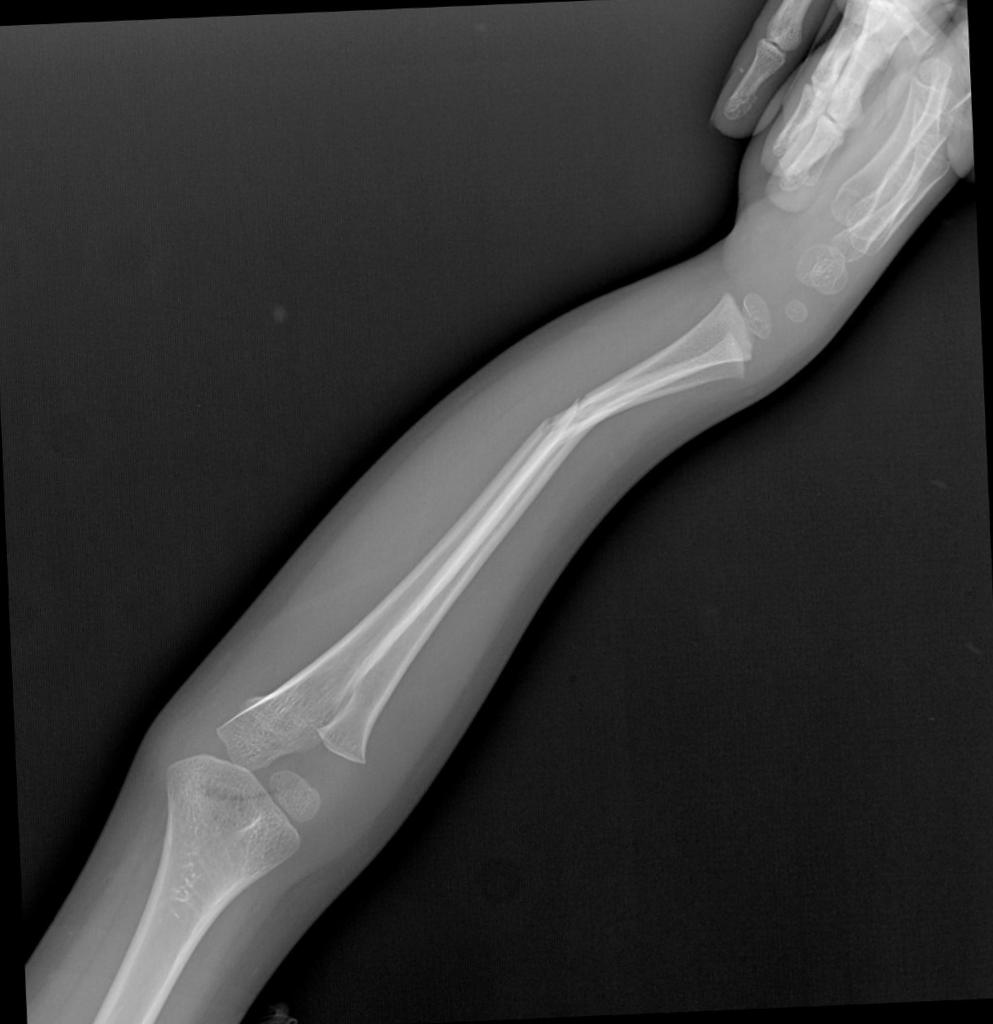angle: (544, 397, 588, 448)
